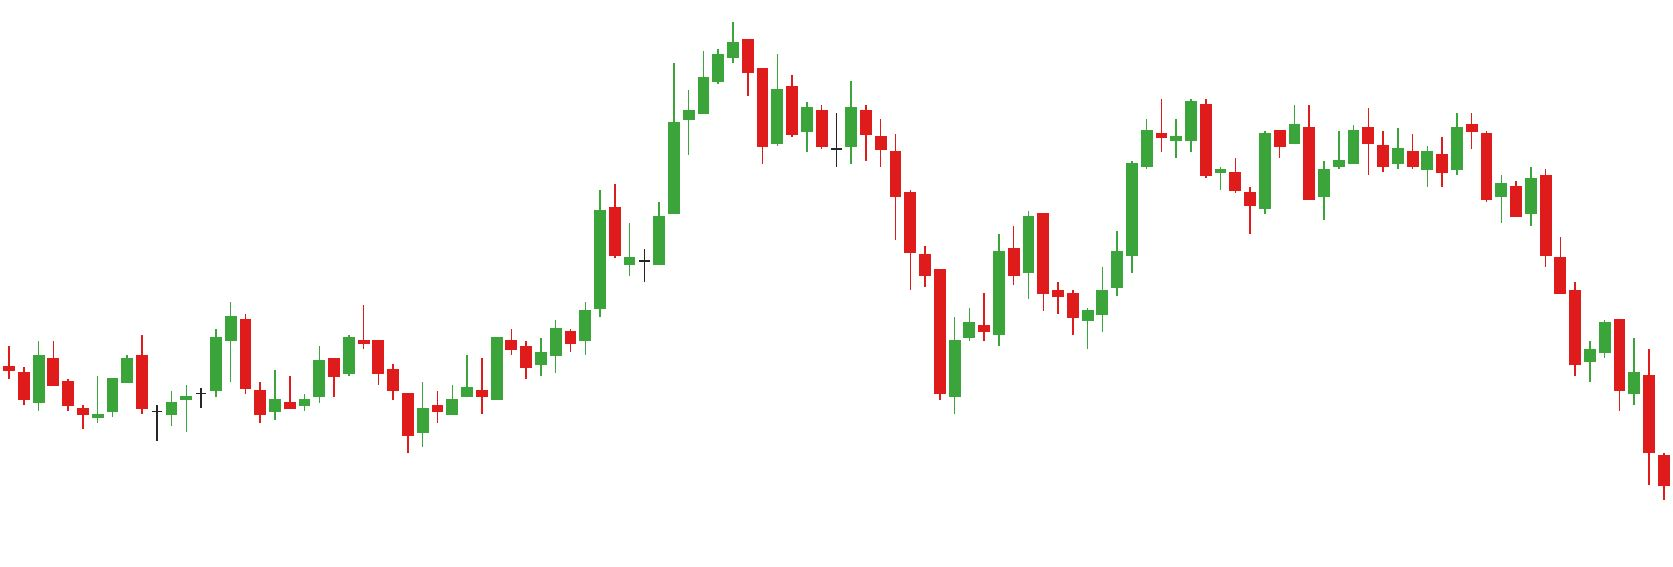buy: (257, 358, 432, 452), (79, 371, 160, 443)
